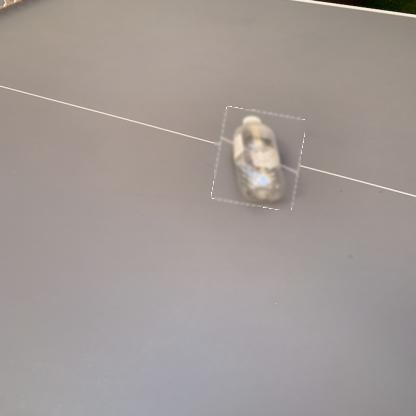plastic-bottles: (216, 110, 304, 209)
